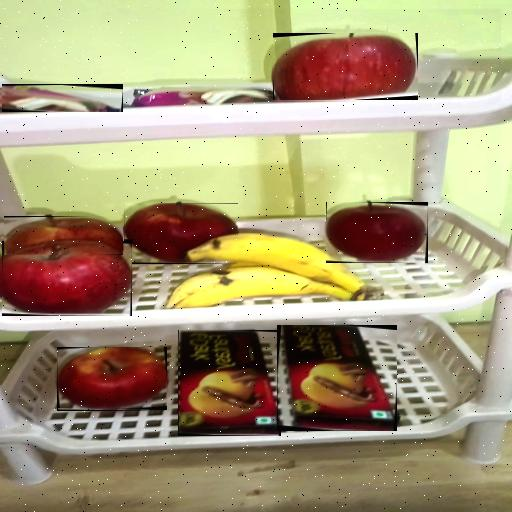Apple: (273, 34, 418, 102), (2, 241, 132, 316), (57, 348, 167, 412), (124, 203, 238, 264), (326, 202, 428, 263), (2, 216, 122, 255)
Choco Fills: (277, 325, 397, 431), (178, 330, 281, 436)
Choco Pie: (2, 84, 123, 112)
